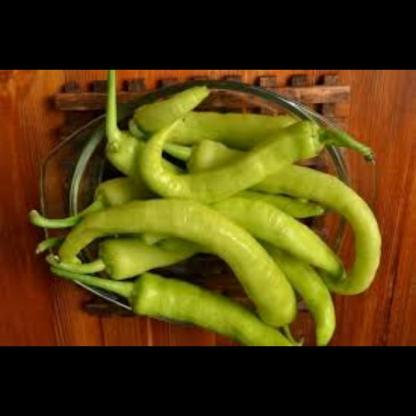hot pepper: (33, 87, 387, 347)
